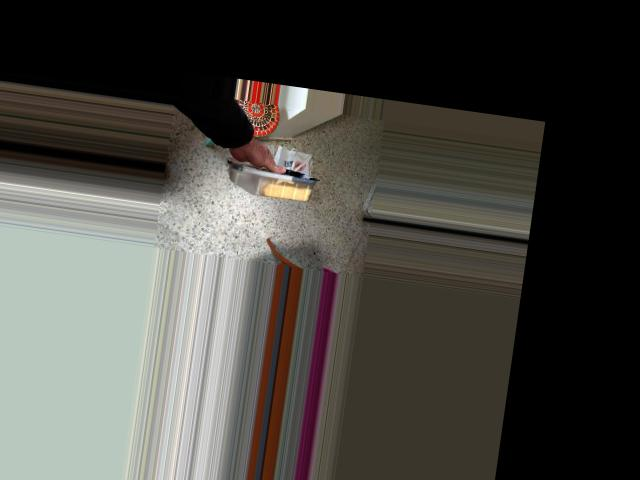cheese: (205, 117, 316, 225)
